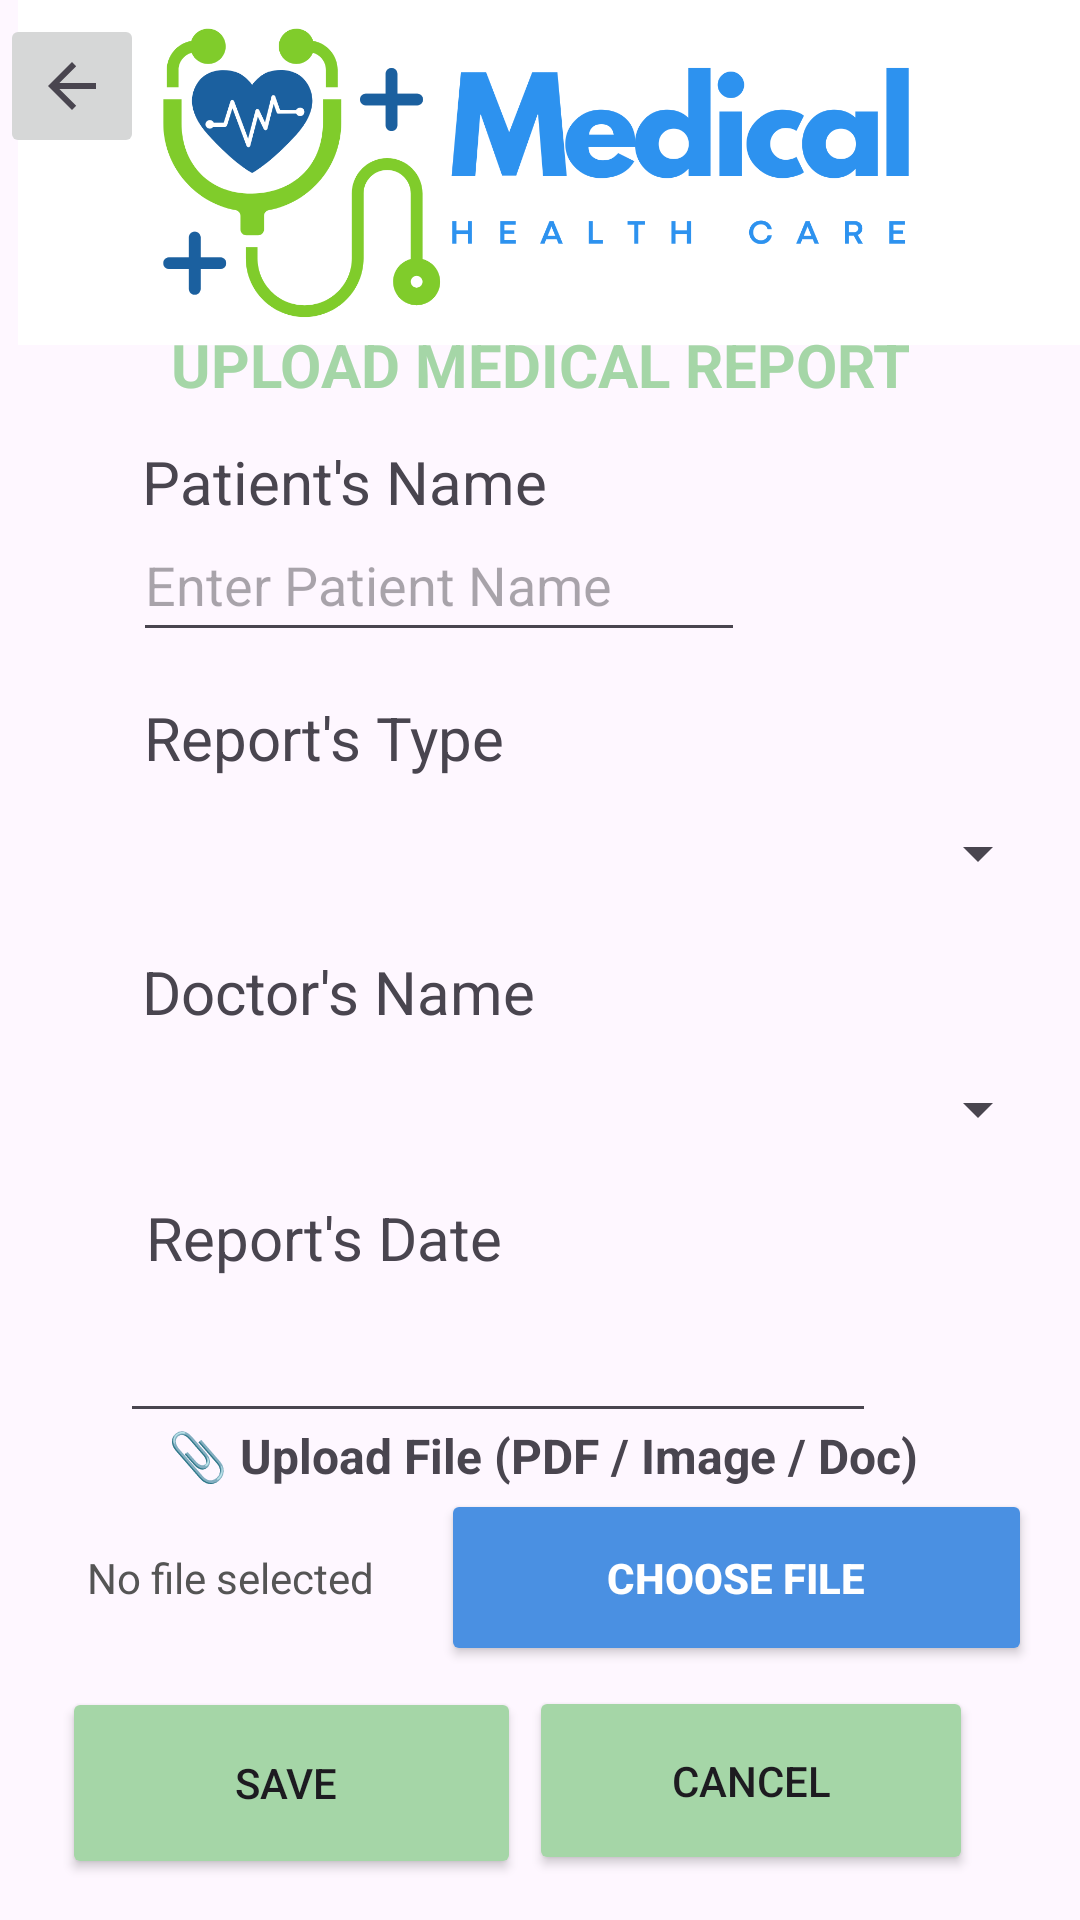

Point at icon controls on the screen. Image size 1080w x 1920h, points as (x,y).
Back Button: (72,86)
